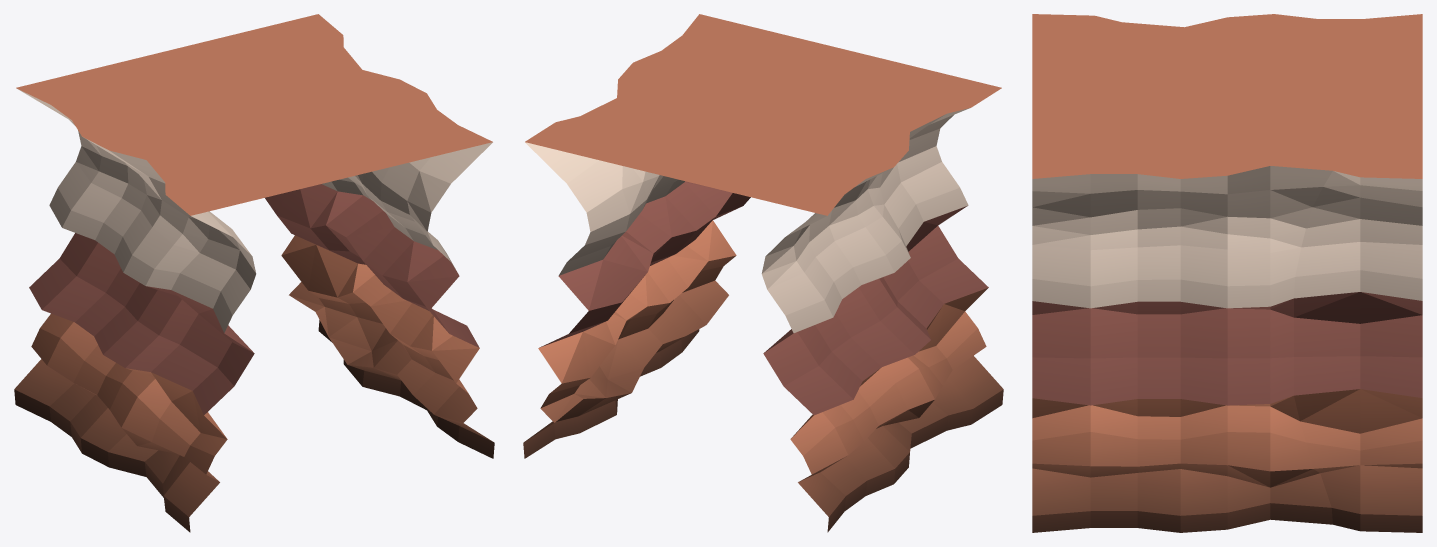
Rendered from bridge3.fbx.
3 renders of one model, left to right at view 1: azimuth 30°, elevation 25°; view 2: azimuth 150°, elevation 25°; view 3: azimuth 270°, elevation 25°, orthographic. The views are drawn at different scales.
Visible parts, largest first — view 1: bridge3; view 2: bridge3; view 3: bridge3.
Part boxes in pixels (box(x1,y1,x2,y2)): bridge3: box(14, 14, 494, 532); bridge3: box(523, 14, 1003, 532); bridge3: box(1032, 14, 1422, 532).
Bounding box in the file's own units: 101 × 100 × 100.
